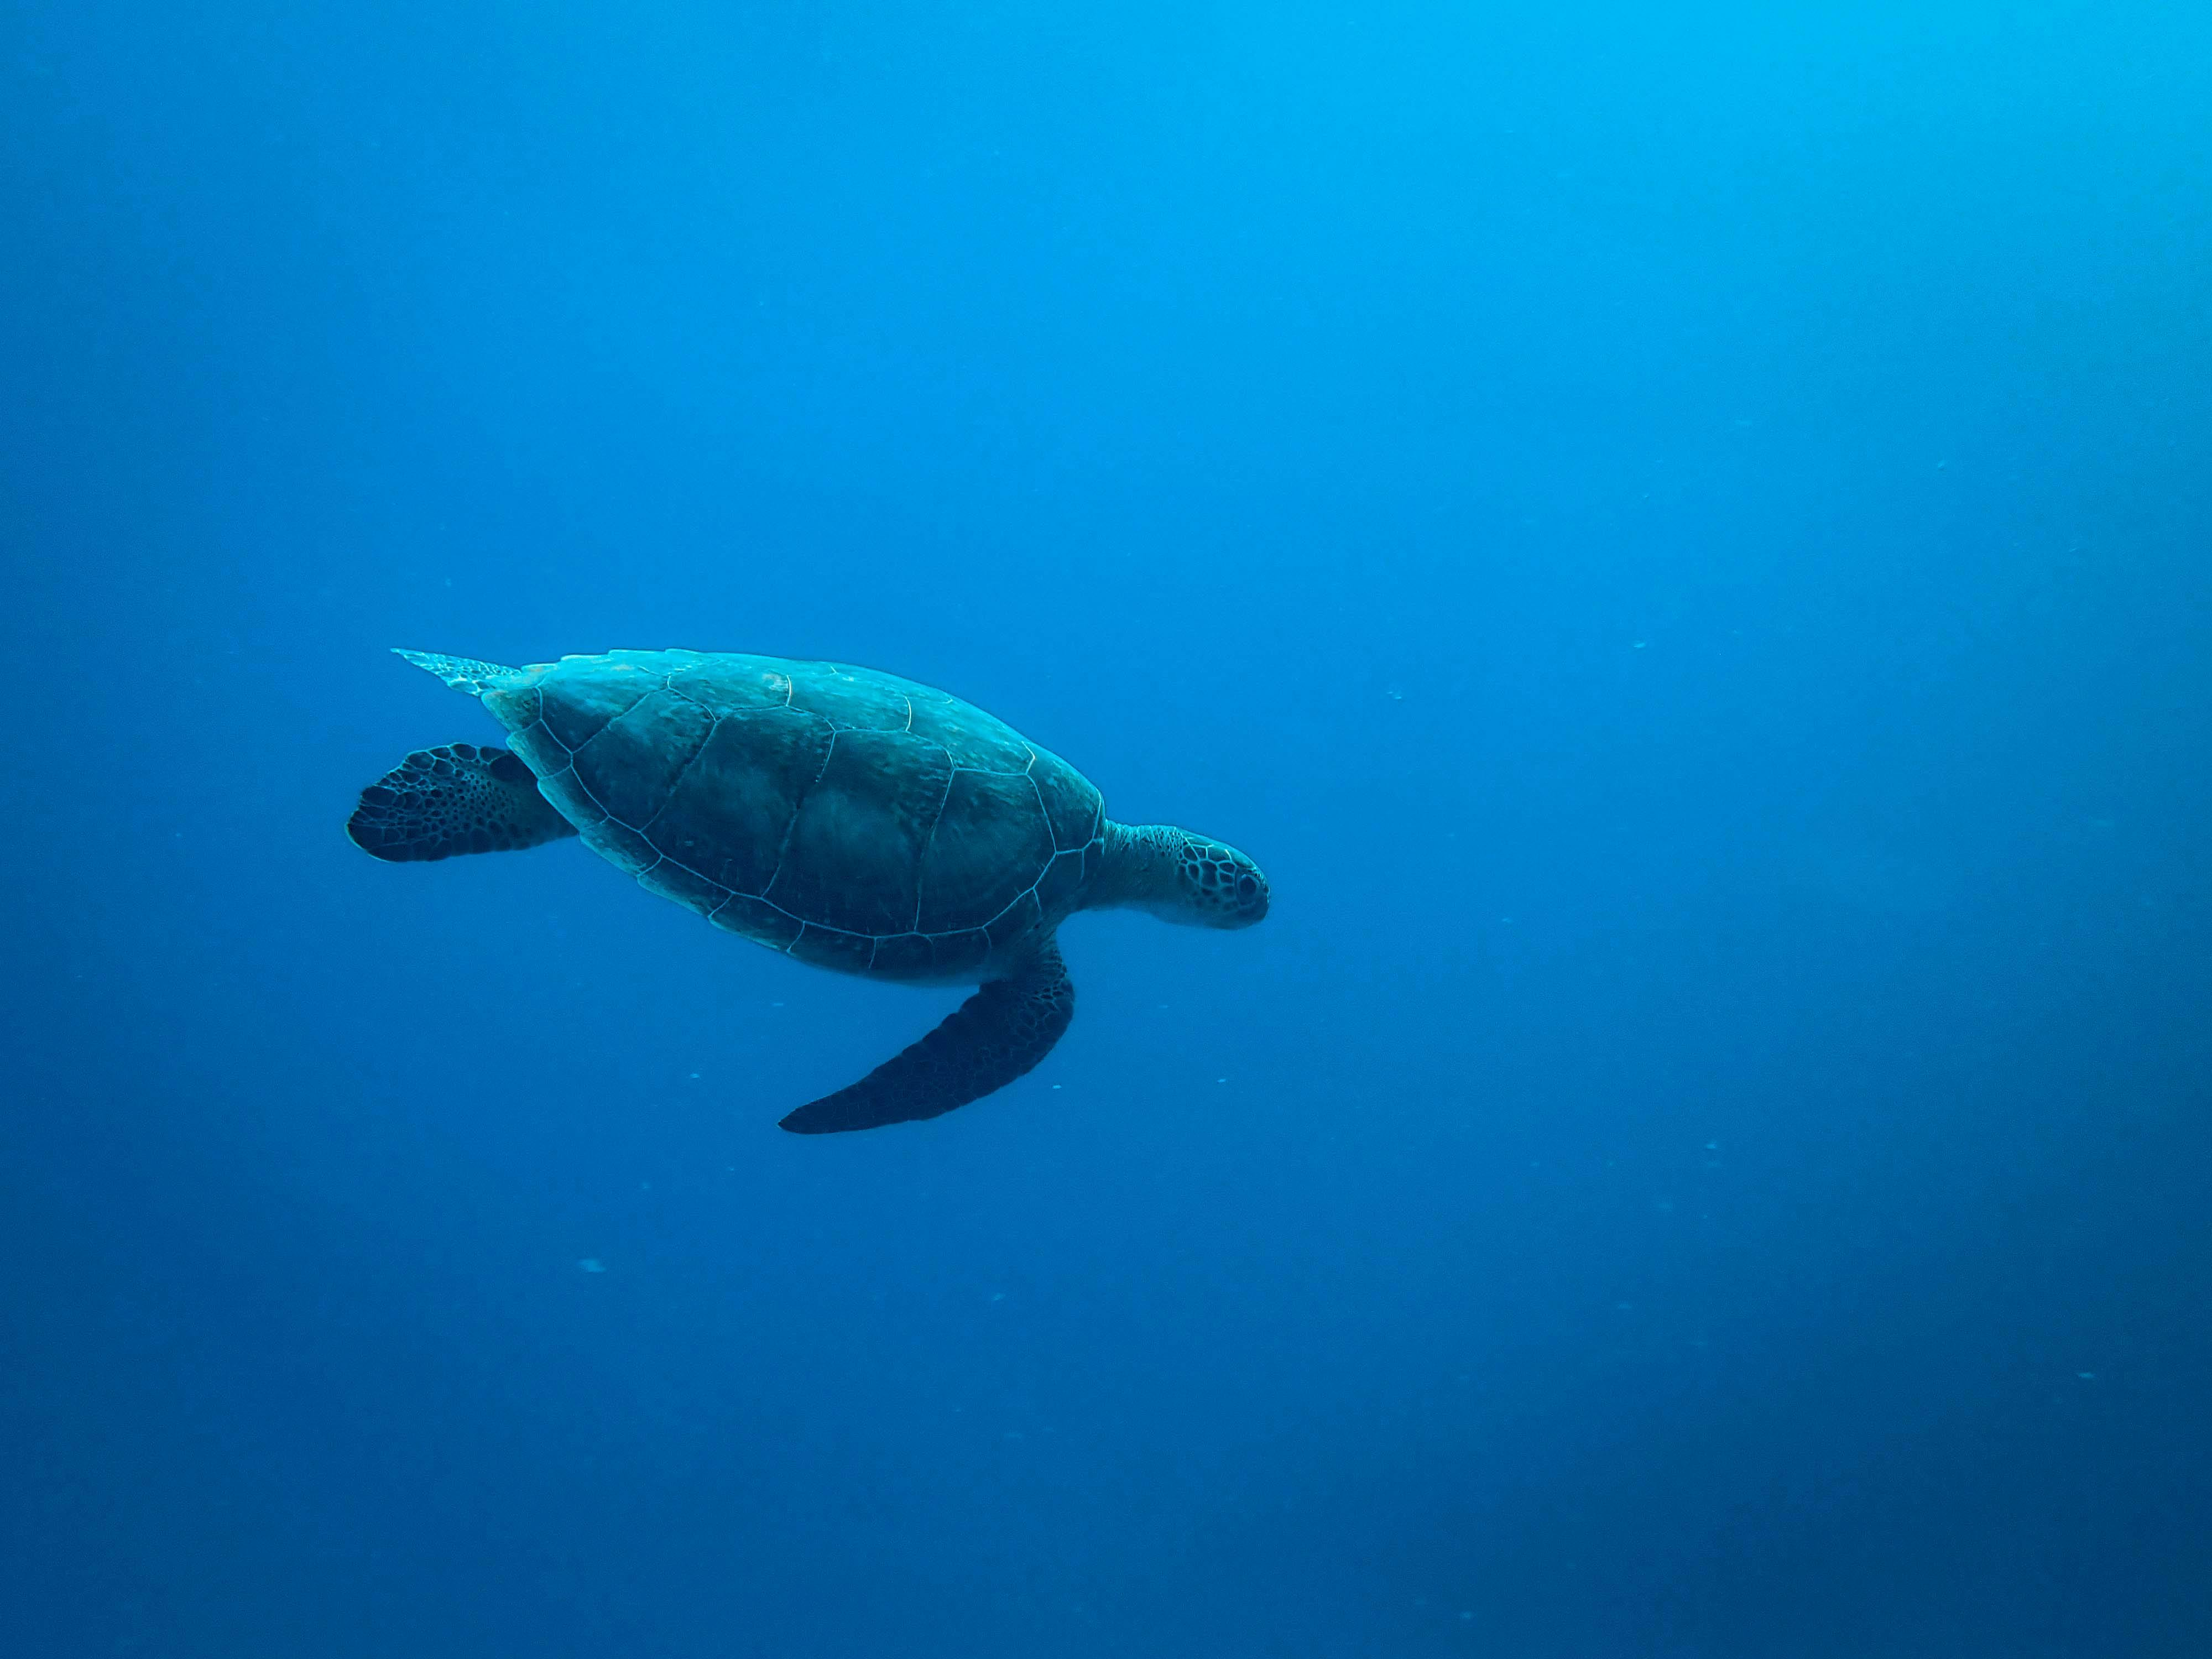turtle: (343, 634, 1277, 1138)
